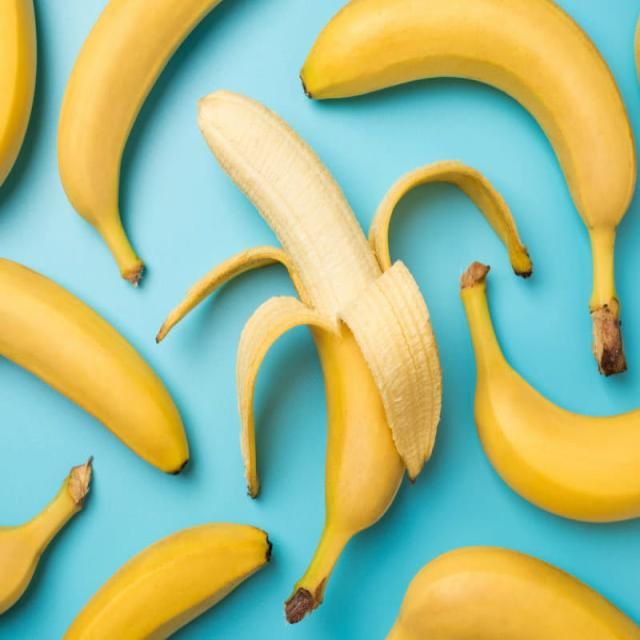Banana: (159, 90, 440, 622), (301, 0, 635, 311), (58, 0, 218, 284), (460, 282, 640, 522), (0, 259, 188, 472), (64, 523, 271, 638), (388, 547, 640, 638), (0, 457, 92, 612)
